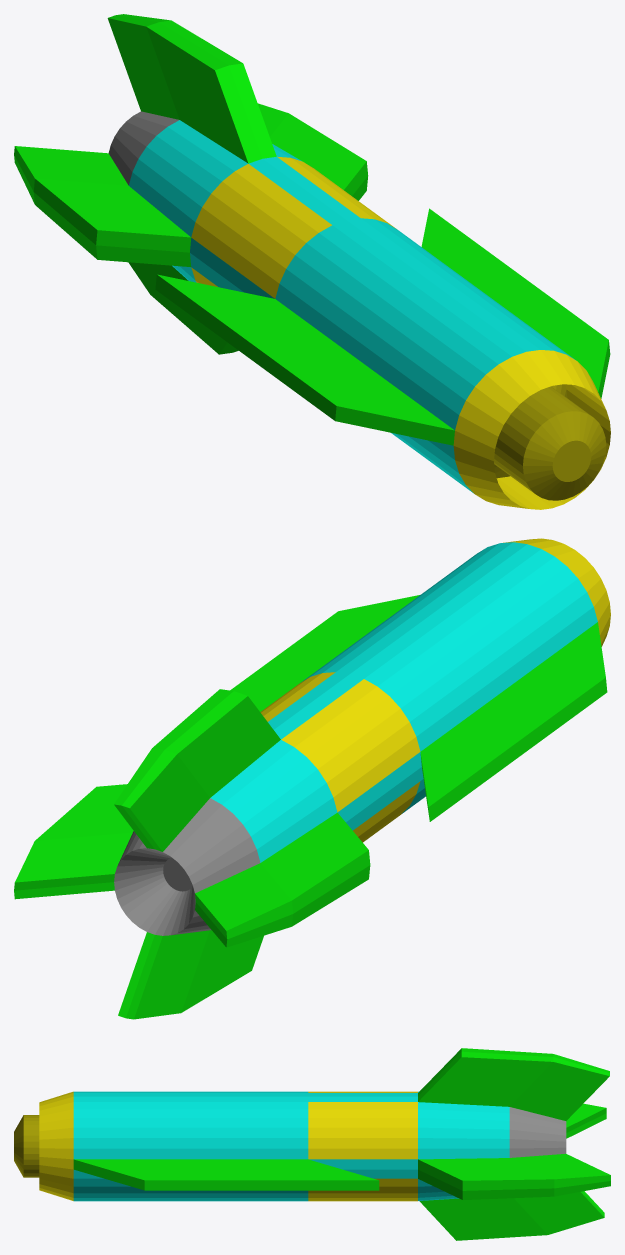
Rendered from Rocket9.fbx.
3 views of the same model, one above another, from view 1: azimuth 30°, elevation 25°; view 2: azimuth 150°, elevation 25°; view 3: azimuth 270°, elevation 25° (orthographic). The views are drawn at different scales.
Parts seen in each view (by area): view 1: Cylinder.004; view 2: Cylinder.004; view 3: Cylinder.004.
Boxes of the visible parts, x1,y1,x2,y2 form: Cylinder.004: [14, 14, 610, 509]; Cylinder.004: [14, 538, 610, 1019]; Cylinder.004: [14, 1048, 610, 1240].
Bounding box in the file's own units: 0.6916 × 0.6808 × 1.98.
